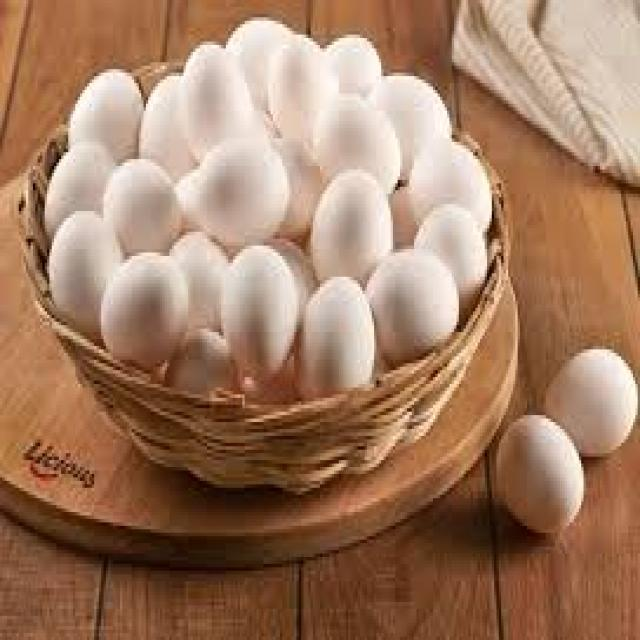White Egg: (486, 404, 587, 540), (187, 122, 291, 244), (541, 341, 640, 466), (366, 212, 446, 360), (296, 269, 381, 387), (407, 124, 492, 241), (220, 240, 302, 358), (266, 25, 341, 145), (366, 80, 450, 184), (318, 169, 378, 304), (196, 51, 262, 158)
